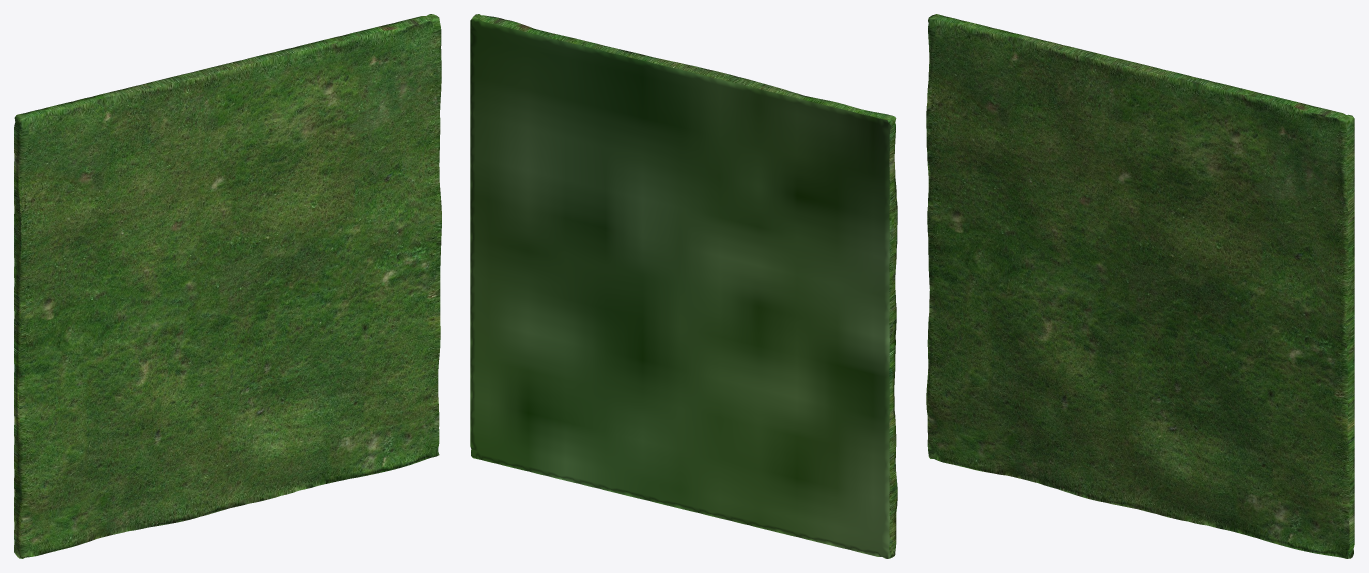
The model's file is Grass.obj.
The picture shows the model from 3 angles, left to right: view 1: azimuth 30°, elevation 25°; view 2: azimuth 150°, elevation 25°; view 3: azimuth 330°, elevation 25°; orthographic projection.
Size of the model in its own units: 300 by 300 by 11.78.
1 material, 1 textured.
